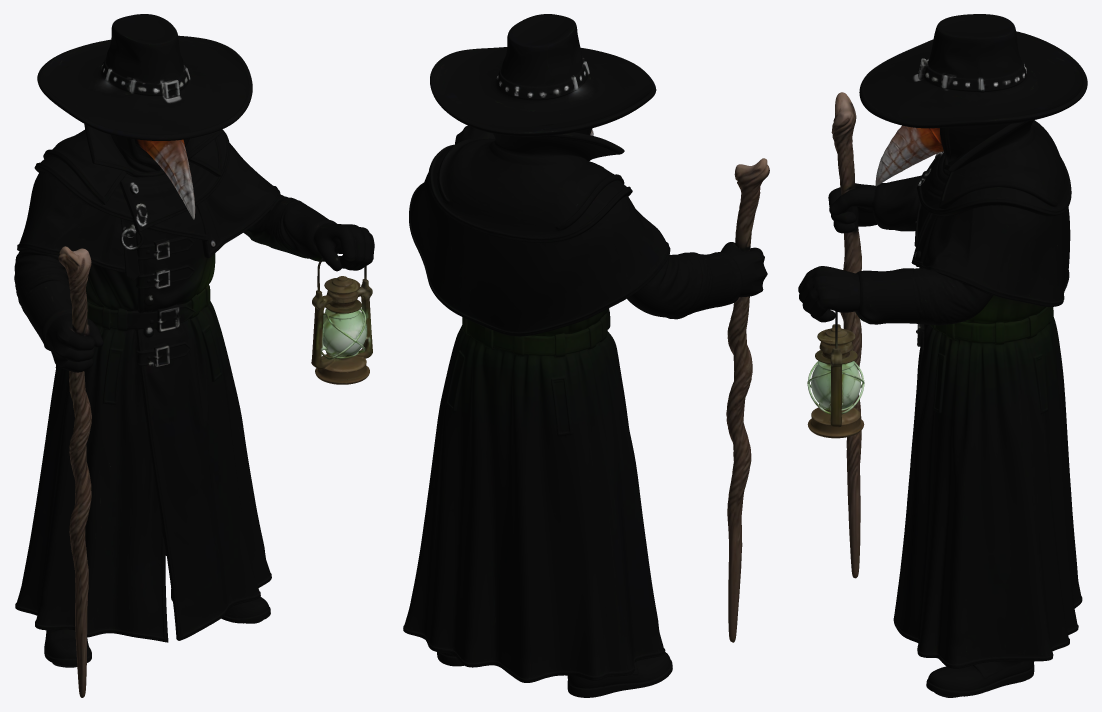
Rendered from 1780580323487-m0j62ssc.glb.
3 renders of one model, left to right at view 1: azimuth 30°, elevation 25°; view 2: azimuth 150°, elevation 25°; view 3: azimuth 270°, elevation 25°, orthographic. The views are drawn at different scales.
Parts seen in each view (by area): view 1: material; view 2: material; view 3: material.
Boxes of the visible parts, x1,y1,x2,y2 form: material: (14, 14, 374, 697); material: (403, 14, 769, 697); material: (798, 14, 1087, 697).
Size of the model in its own units: 0.5828 by 1.09 by 0.4597.
Materials: 1 (1 with a texture image).
